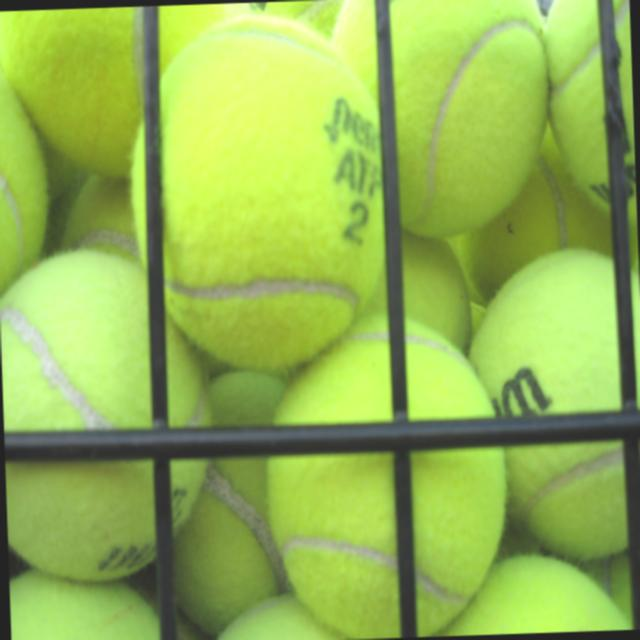Tennis ball: (0, 0, 640, 640), (138, 2, 394, 382)
